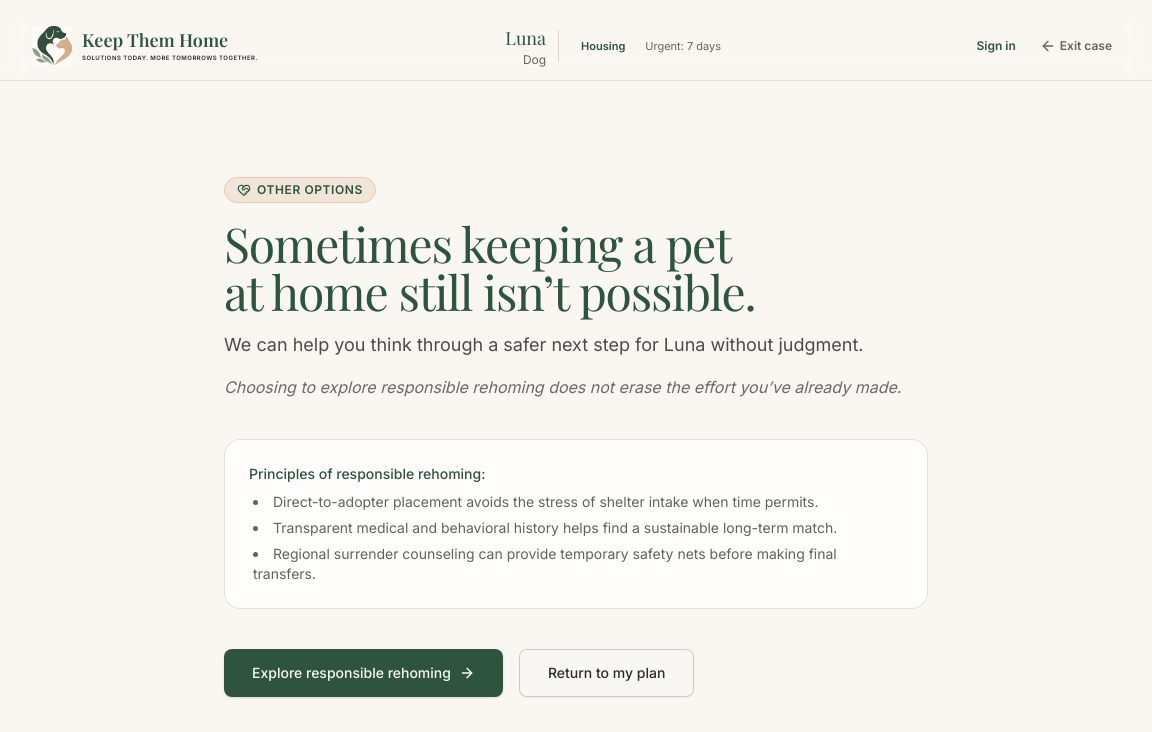
it: Keep Them Home demo flows › reaches Responsible Rehoming from the rehoming outcome
What coordinates should you click on to do the following:
click the button "Explore responsible rehoming"
I would click on:
 (363, 673)
Its box is [224, 649, 503, 697].
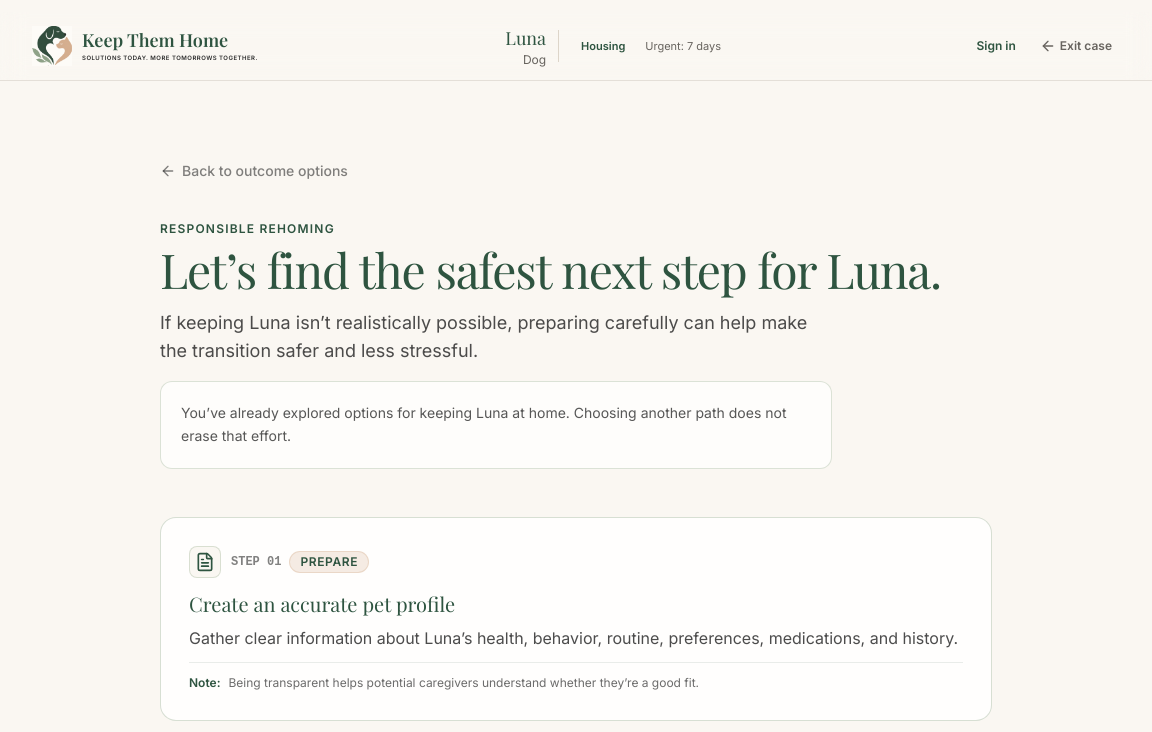
Check: the heading "Let’s find the safest next step for Luna." is shown, box [160, 245, 992, 293]
